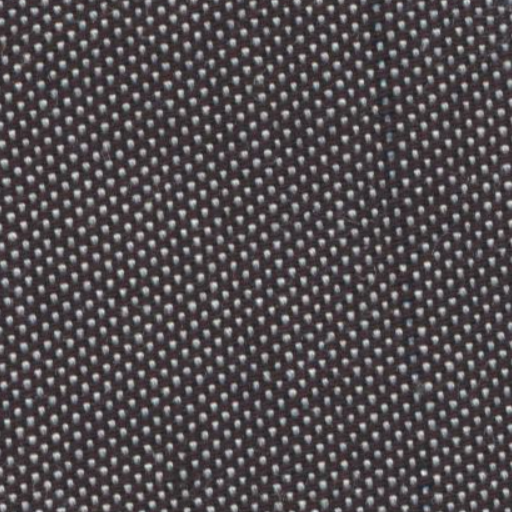TuoSha: (342, 4, 444, 503)
